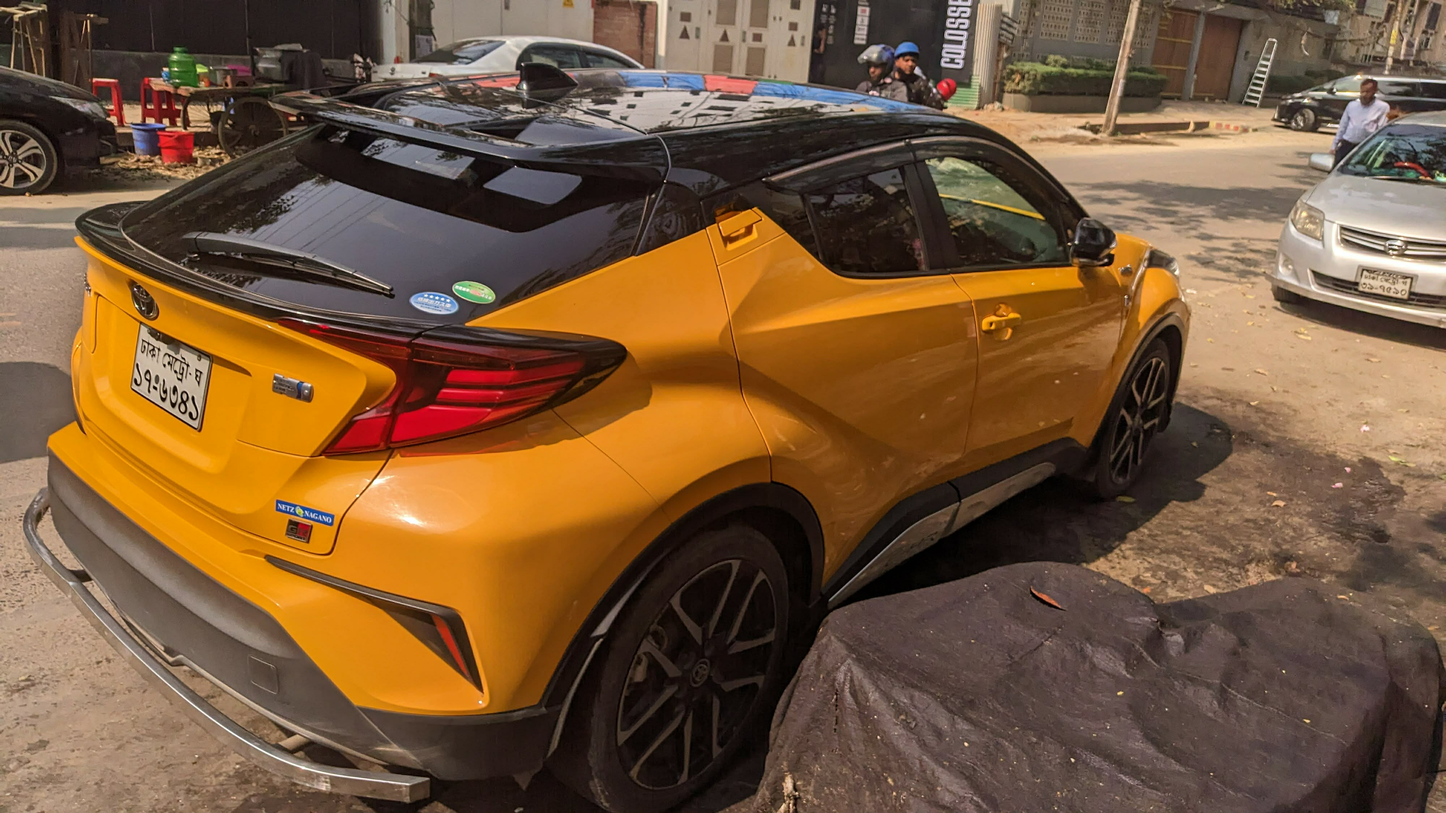private car: (33, 51, 1262, 757), (1245, 6, 1446, 382), (7, 42, 126, 212)
